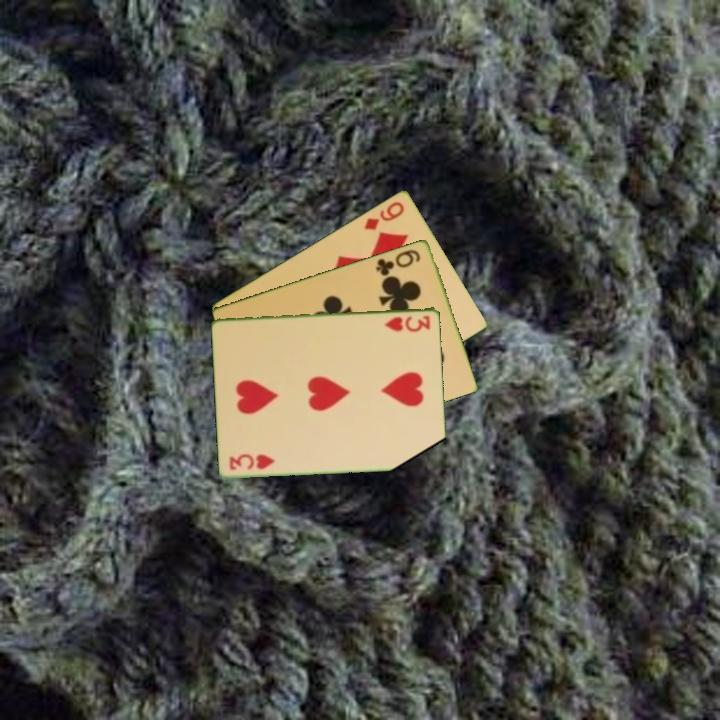3h: (381, 312, 433, 334), (226, 451, 278, 472)
6c: (372, 246, 423, 278)
9d: (360, 198, 407, 233)
